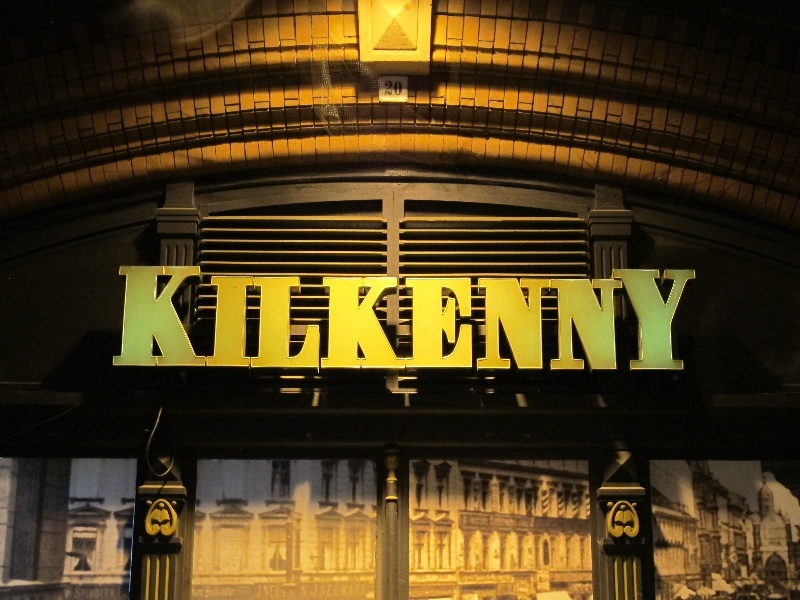text: (129, 263, 144, 374), (145, 263, 160, 374), (161, 263, 176, 374), (177, 263, 192, 374), (193, 263, 208, 374), (209, 263, 224, 374), (225, 263, 240, 374), (241, 263, 256, 374), (257, 263, 272, 374), (273, 263, 288, 374), (289, 263, 304, 374), (305, 263, 320, 374), (321, 263, 336, 374), (337, 263, 352, 374), (353, 263, 368, 374), (369, 263, 384, 374), (385, 263, 400, 374), (401, 263, 416, 374), (417, 263, 432, 374), (433, 263, 448, 374), (449, 263, 464, 374), (465, 263, 480, 374), (481, 263, 496, 374), (497, 263, 512, 374), (513, 263, 528, 374), (529, 263, 544, 374), (545, 263, 560, 374), (561, 263, 576, 374), (577, 263, 592, 374), (593, 263, 608, 374), (609, 263, 624, 374), (625, 263, 640, 374), (641, 263, 656, 374), (657, 263, 672, 374), (673, 263, 688, 374), (689, 263, 701, 374), (118, 263, 128, 374), (385, 78, 400, 100), (401, 78, 405, 100), (382, 78, 384, 100)
